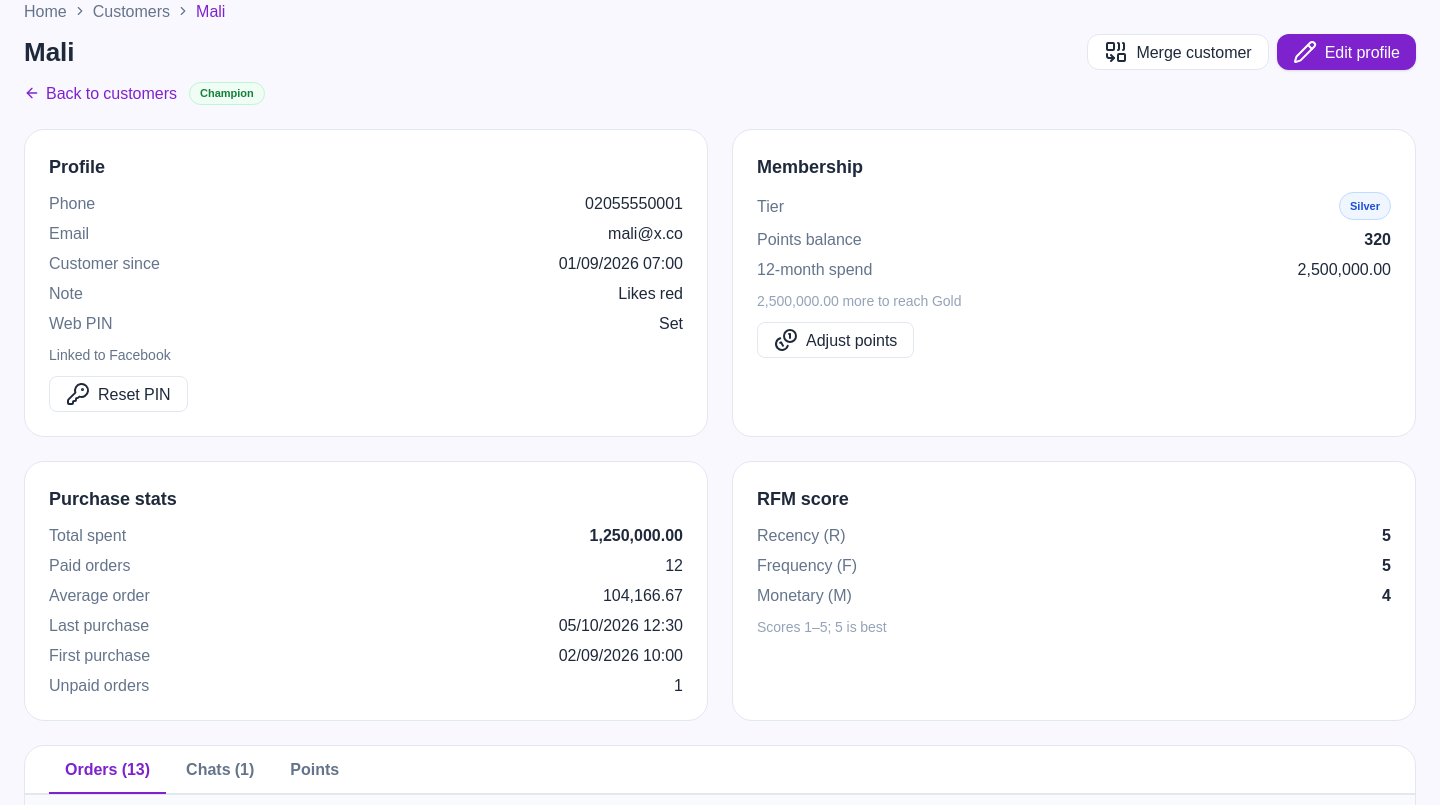
Test: CustomerDetail › ເບີຊ້ຳ: ຂໍ້ຄວາມ + ລິ້ງໄປລູກຄ້າເຈົ້າຂອງເບີ
Click the button "Edit profile" at [1346, 52], box x1=1277 y1=34 x2=1416 y2=70
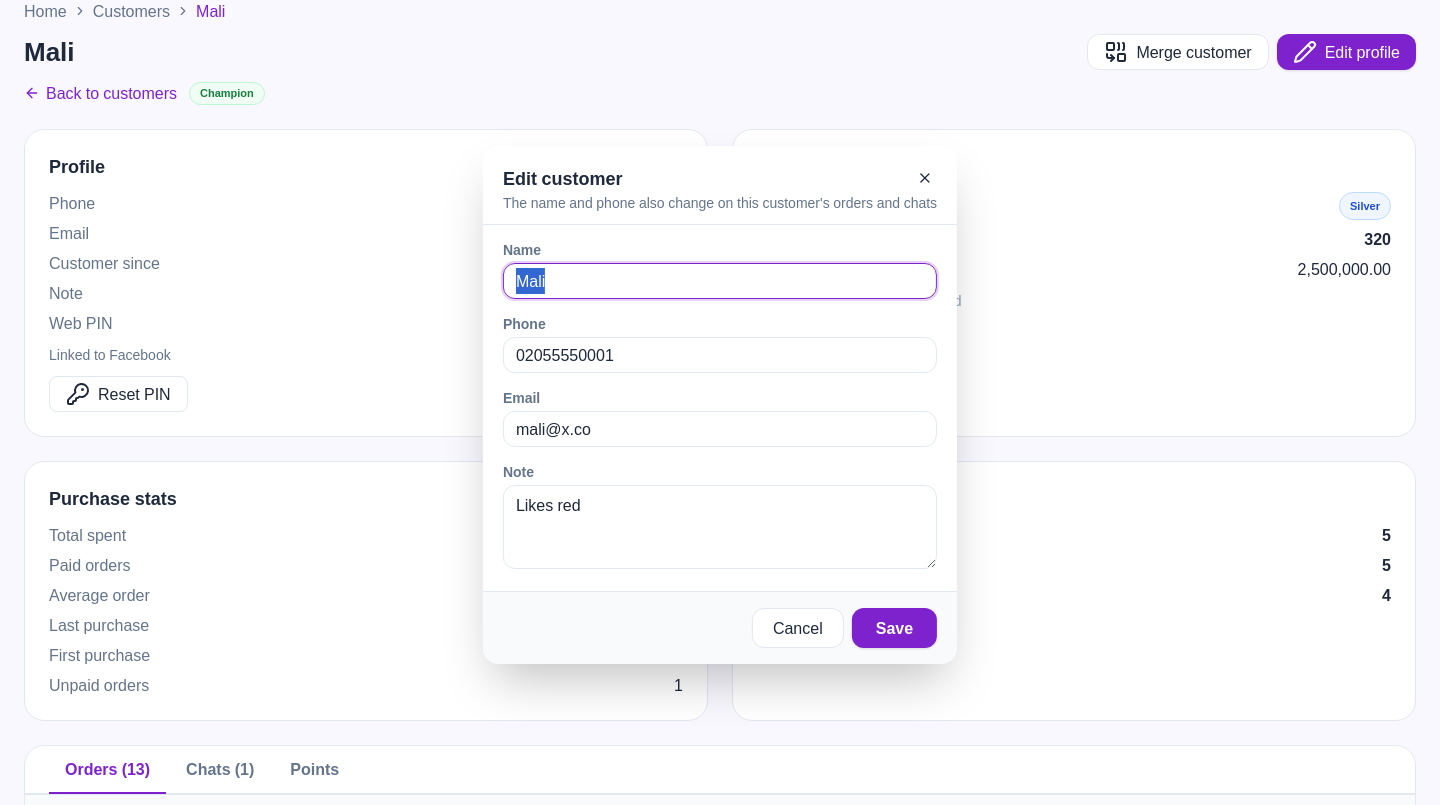
Click the button "Save" at [894, 628], box x1=852 y1=608 x2=937 y2=648
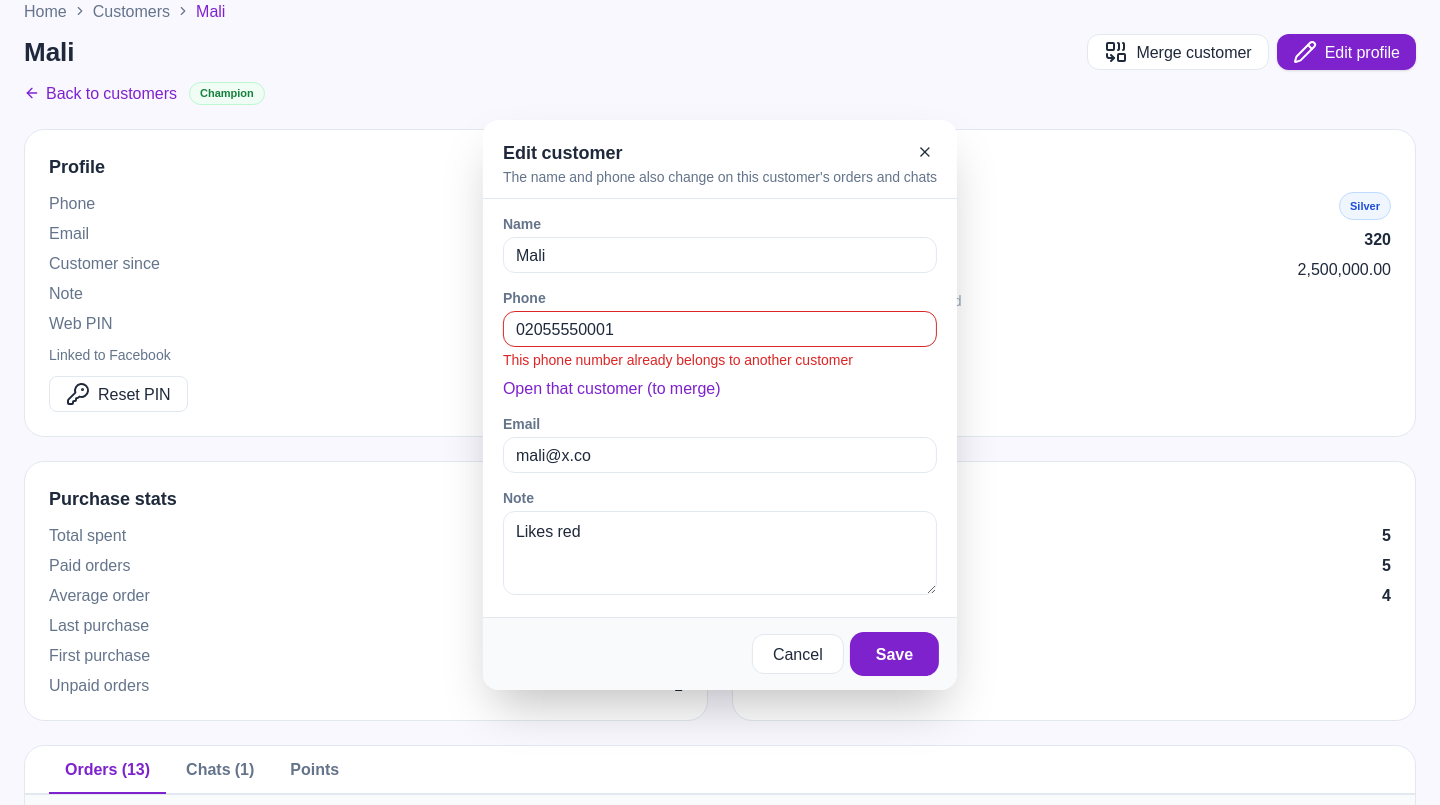
Now the text "This phone number already belongs to another customer" is shown, box x1=503 y1=348 x2=853 y2=371
